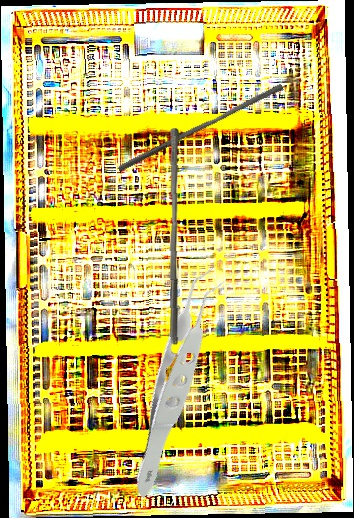Pusher: (117, 77, 284, 179), (162, 126, 187, 347)
Tissue Forceps: (57, 255, 308, 500)
